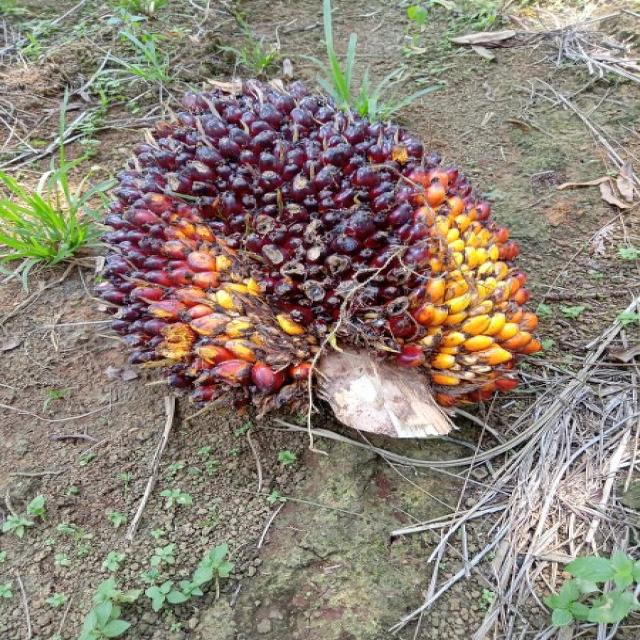fraksi 1: (59, 53, 569, 484)
